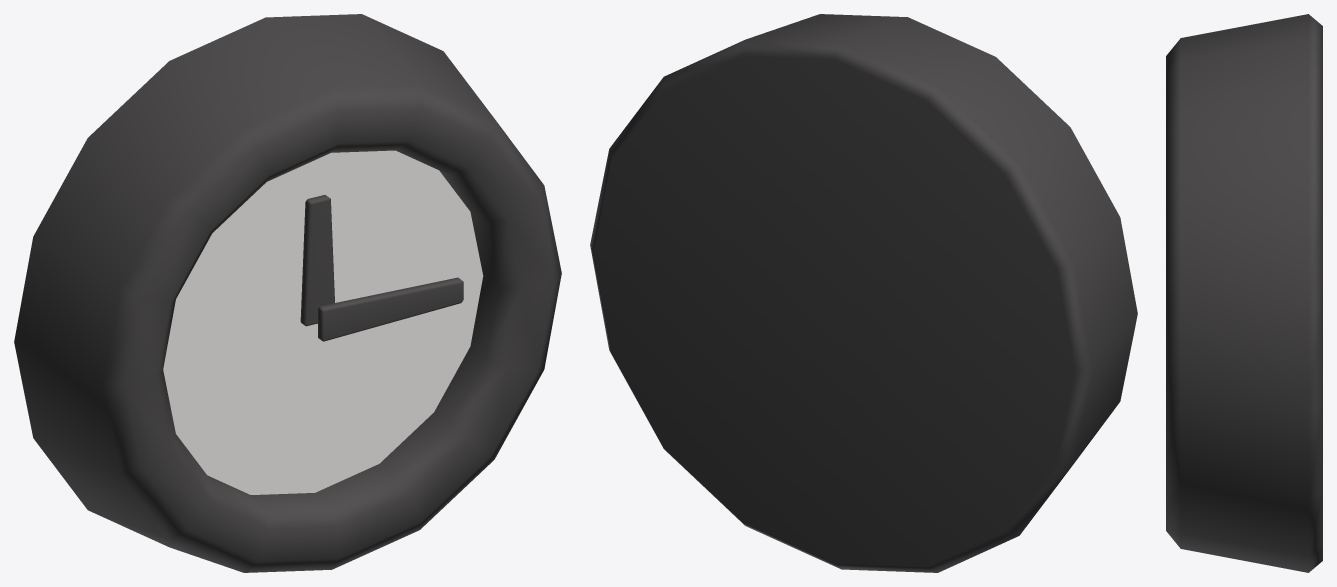
File: Clock_2.glb
3 renders of one model, left to right at view 1: azimuth 30°, elevation 25°; view 2: azimuth 150°, elevation 25°; view 3: azimuth 270°, elevation 25°, orthographic. The views are drawn at different scales.
Parts seen in each view (by area): view 1: Clock_2; view 2: Clock_2; view 3: Clock_2.
Part boxes in pixels (left/top/right/bottom): Clock_2: left=14, top=14, right=561, bottom=572; Clock_2: left=590, top=14, right=1137, bottom=572; Clock_2: left=1166, top=14, right=1322, bottom=572.
Size of the model in its own units: 0.6624 by 0.6624 by 0.1855.
1 material, 1 textured.
